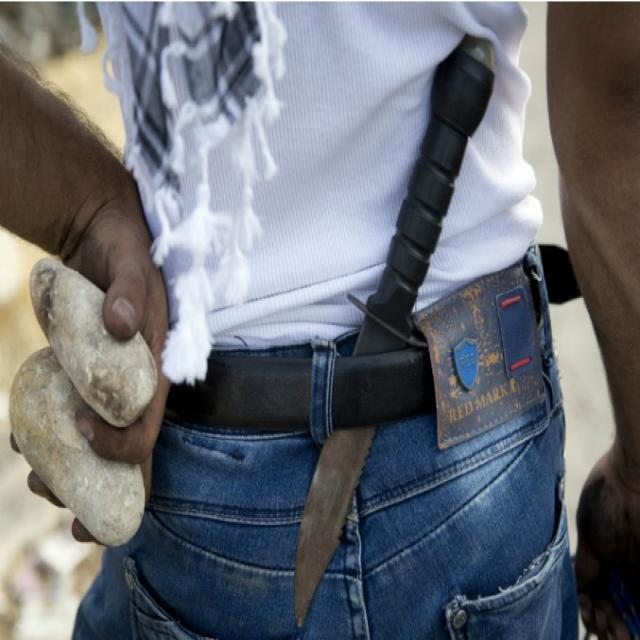knife: (287, 33, 503, 640)
